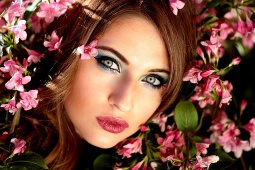female: (70, 5, 165, 155)
